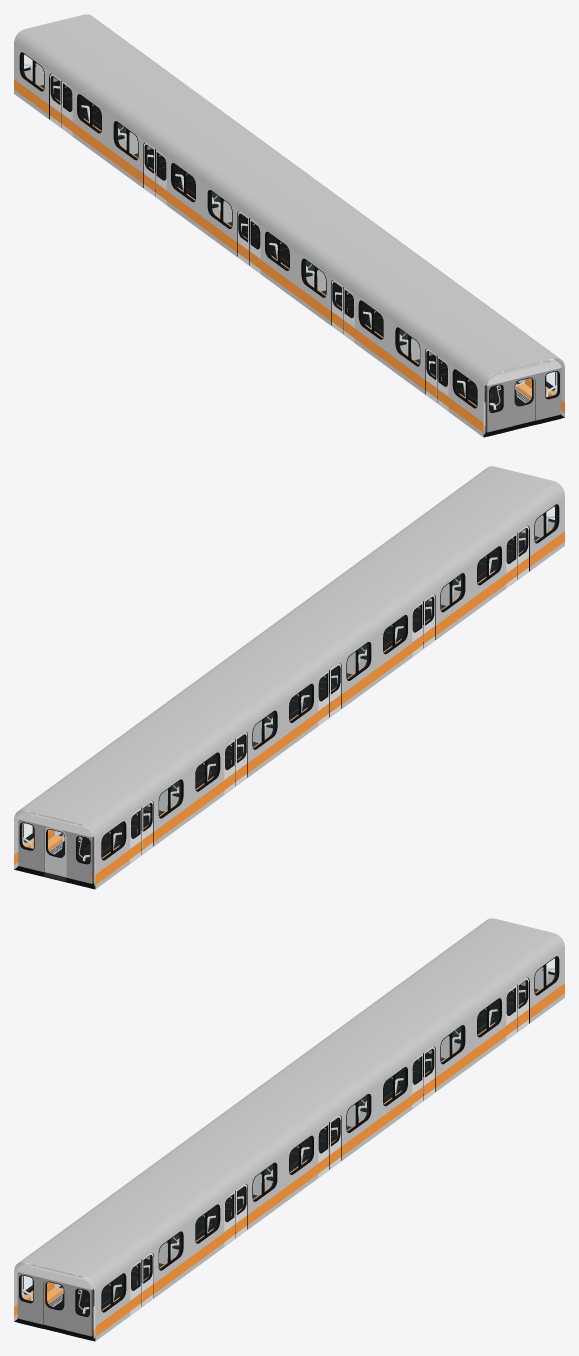
Rendered from train.glb.
3 renders of one model, top to bottom at view 1: azimuth 30°, elevation 25°; view 2: azimuth 150°, elevation 25°; view 3: azimuth 330°, elevation 25°, orthographic.
Parts seen in each view (by area): view 1: Car Body, Inner Wall, Door, Car Floor, Seat, Door Back; view 2: Car Body, Inner Wall, Door, Car Floor, Seat, Door Front.001; view 3: Car Body, Inner Wall, Door, Car Floor, Seat, Door Back.
Boxes of the visible parts, x1=… form: Car Body: x1=14, y1=14, x2=564, y2=437; Inner Wall: x1=24, y1=62, x2=561, y2=436; Door: x1=50, y1=74, x2=523, y2=410; Car Floor: x1=49, y1=84, x2=564, y2=437; Seat: x1=24, y1=63, x2=557, y2=433; Door Back: x1=513, y1=375, x2=535, y2=429; Car Body: x1=14, y1=466, x2=564, y2=889; Inner Wall: x1=18, y1=514, x2=554, y2=887; Door: x1=55, y1=526, x2=528, y2=862; Car Floor: x1=14, y1=536, x2=535, y2=889; Seat: x1=22, y1=515, x2=554, y2=885; Door Front.001: x1=44, y1=827, x2=66, y2=881; Car Body: x1=14, y1=918, x2=564, y2=1341; Inner Wall: x1=17, y1=966, x2=554, y2=1340; Door: x1=55, y1=978, x2=528, y2=1314; Car Floor: x1=14, y1=988, x2=537, y2=1341; Seat: x1=21, y1=967, x2=554, y2=1337; Door Back: x1=43, y1=1279, x2=65, y2=1333.
Bounding box in the file's own units: 5.34 × 3.86 × 53.05.
9 materials, 6 textured.
